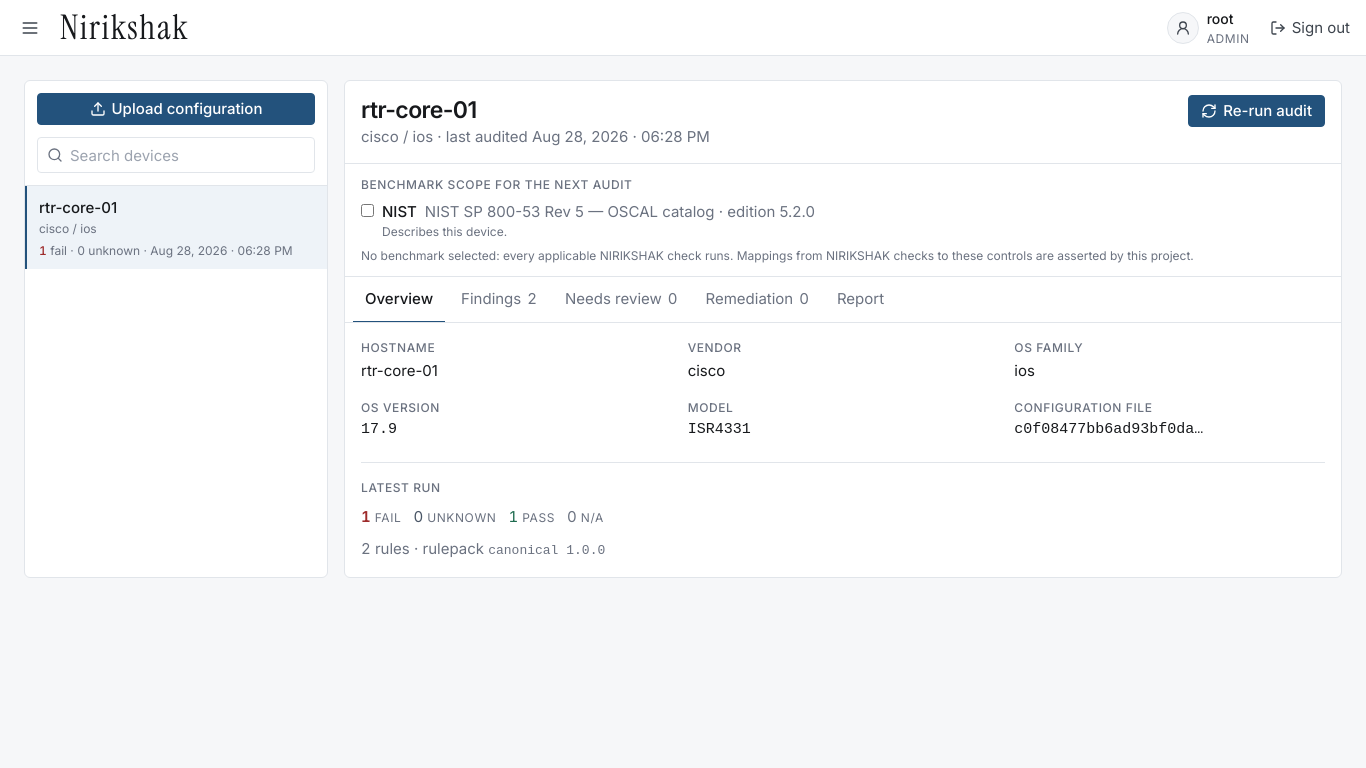
Test: generating the report › shows the backend’s reason when the report cannot be rendered
Click the tab "Report" at (860, 300), box [825,277,896,323]
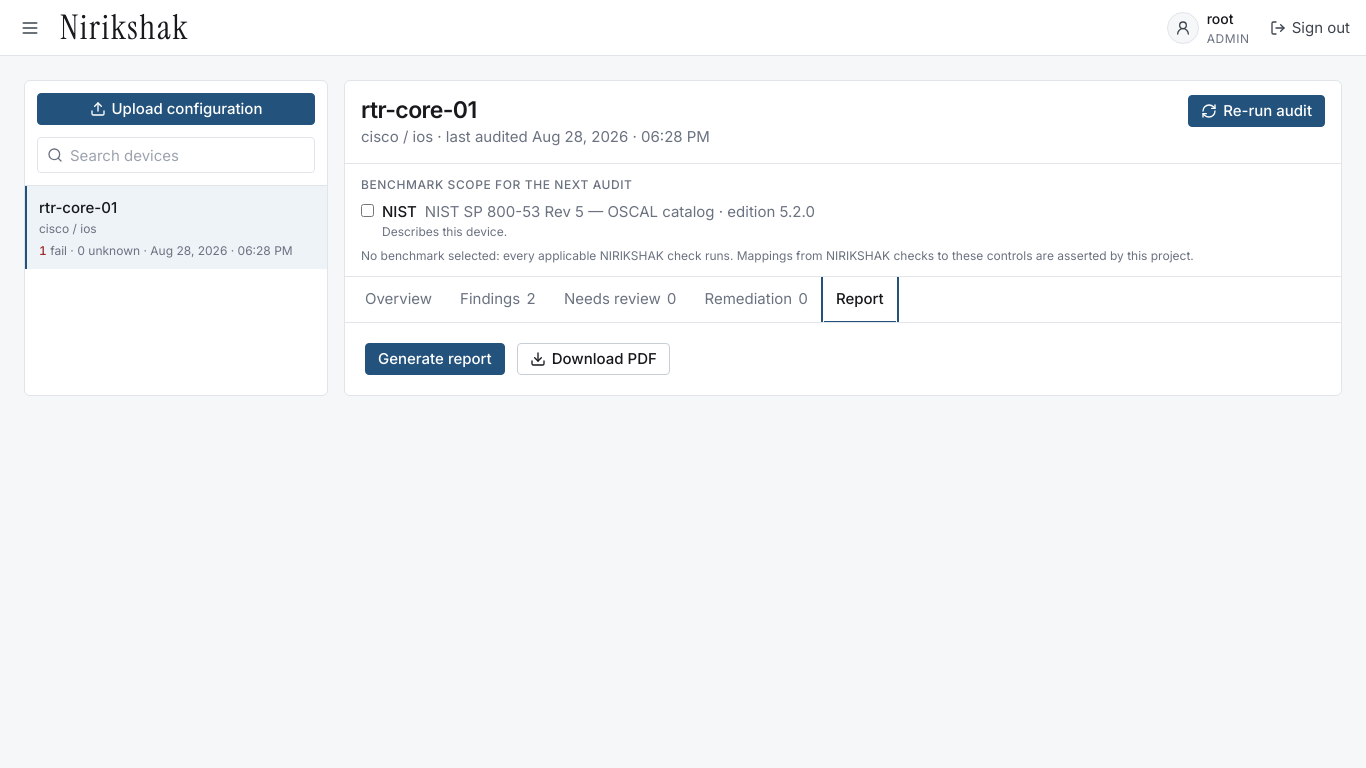
Click the button "Generate report" at (435, 359), box [365,343,505,375]
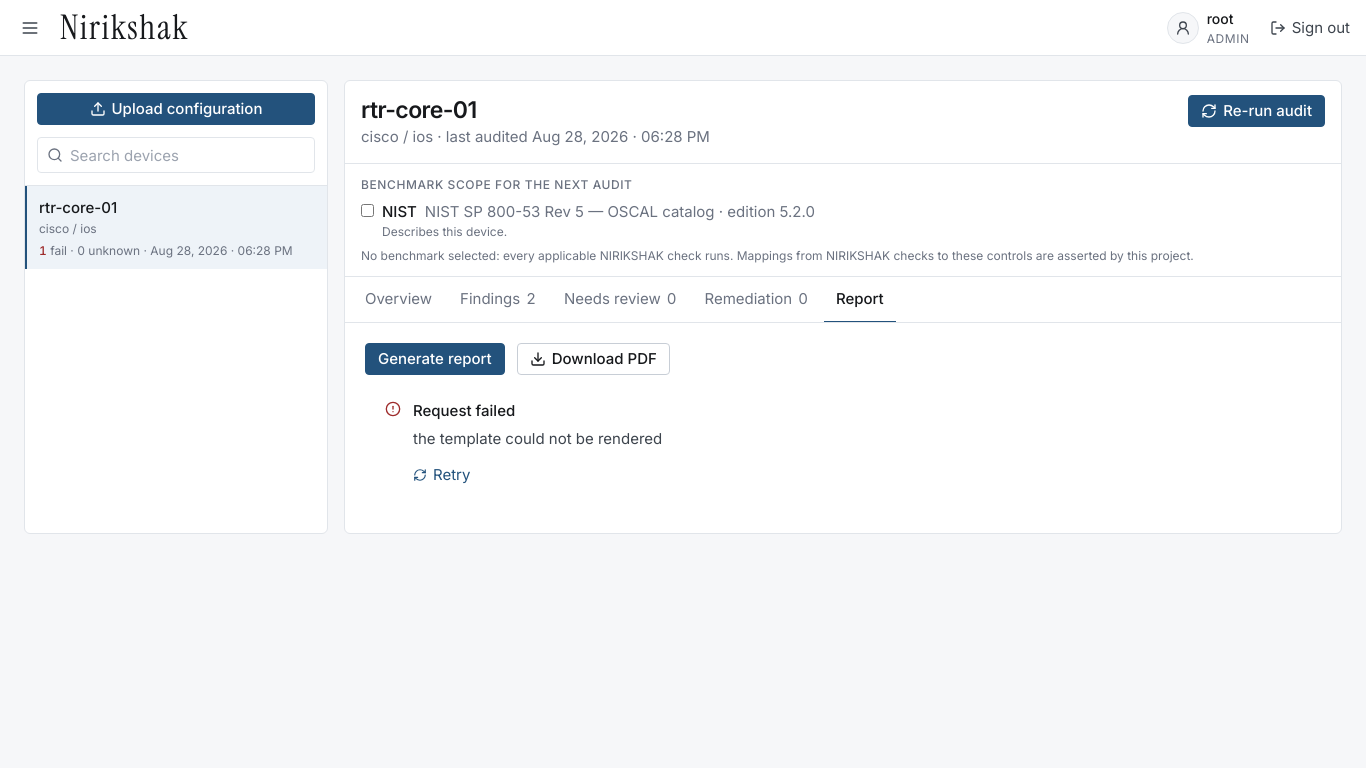
Expected: the text "the template could not be rendered" is shown, [413,429,662,448]
